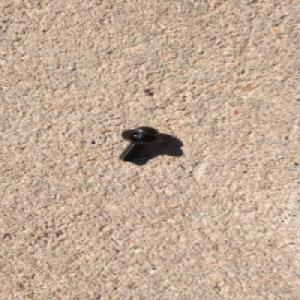BoltWasher: (115, 125, 164, 162)
